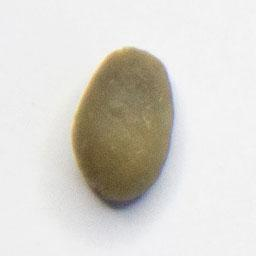peaberry: (67, 42, 180, 207)
